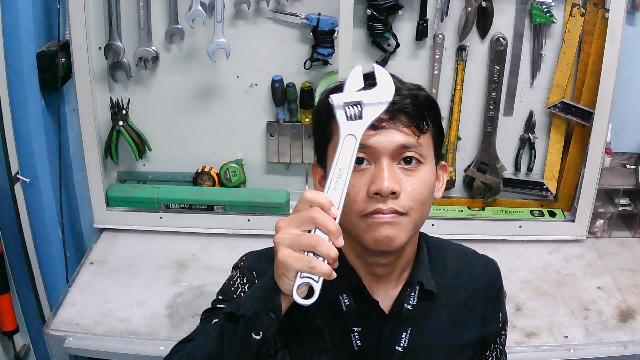kunci_inggris: (292, 62, 395, 307)
